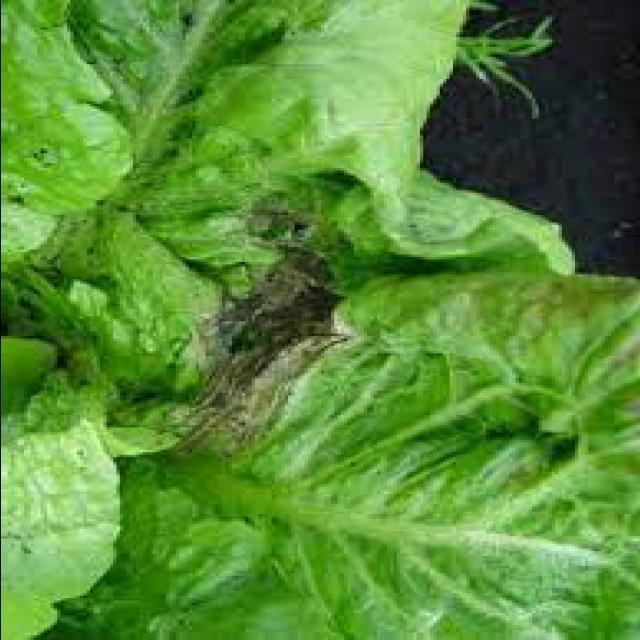Mature: (288, 423, 624, 614), (8, 414, 150, 590)
